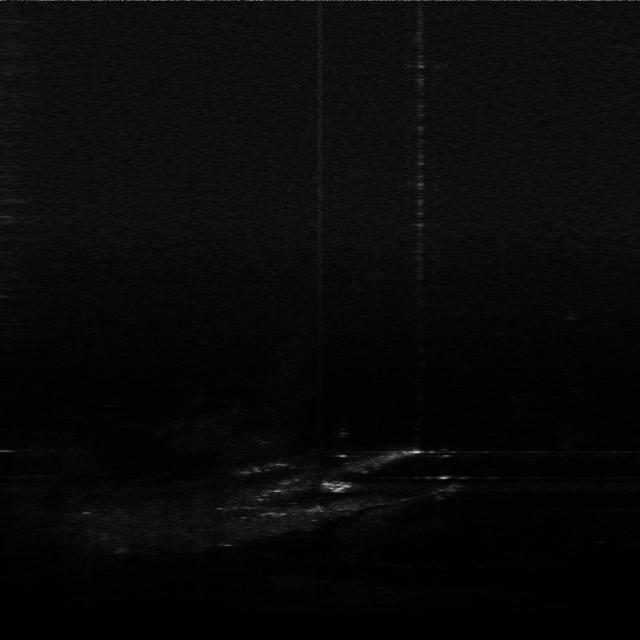rov: (320, 476, 356, 496)
